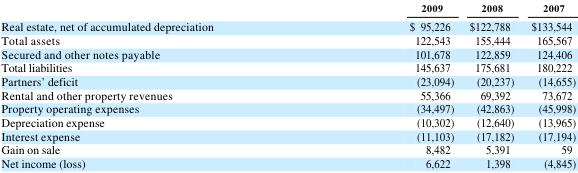table: (0, 0, 575, 170)
table column: (0, 0, 310, 170), (310, 0, 461, 170), (461, 0, 521, 170), (521, 0, 575, 170)
table column header: (0, 0, 575, 16)
table row: (0, 0, 575, 16), (0, 16, 575, 32), (0, 155, 575, 170), (0, 32, 575, 46), (0, 59, 575, 73), (0, 73, 575, 87), (0, 100, 575, 114), (0, 114, 575, 128), (0, 141, 575, 155), (0, 46, 575, 59), (0, 87, 575, 100), (0, 128, 575, 141)
